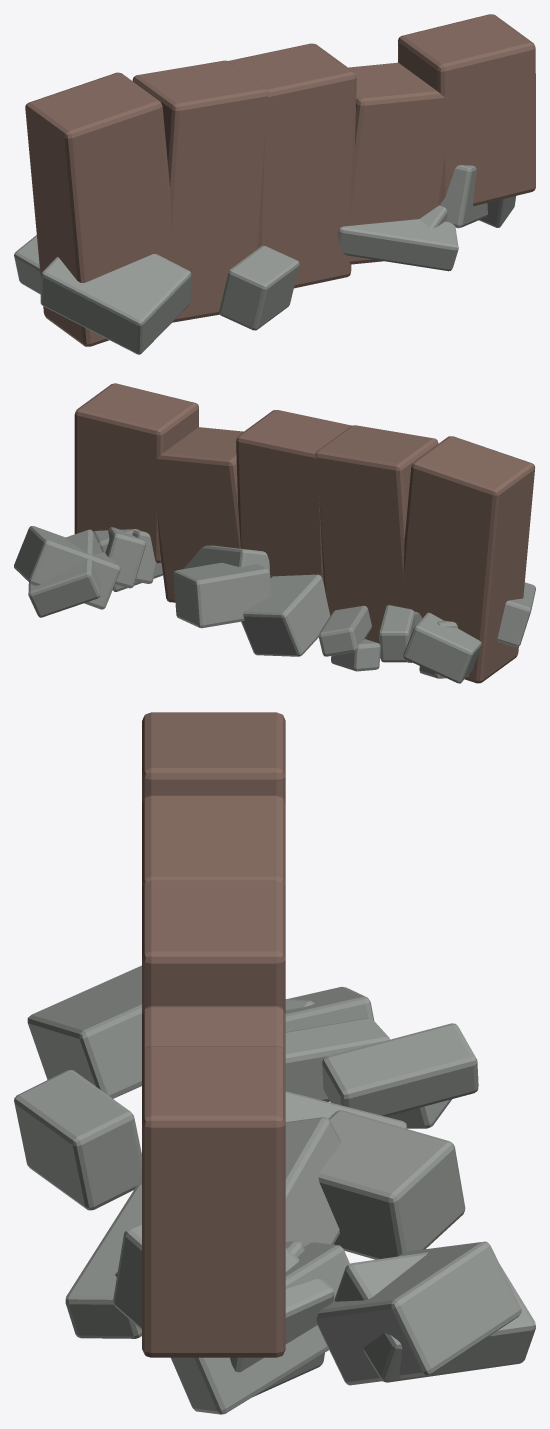
The model's file is collapsed-wall.glb.
The picture shows the model from 3 angles, top to bottom: view 1: azimuth 30°, elevation 25°; view 2: azimuth 150°, elevation 25°; view 3: azimuth 270°, elevation 25°; orthographic projection. The views are drawn at different scales.
Parts seen in each view (by area): view 1: collapsed-wall.001; view 2: collapsed-wall.001; view 3: collapsed-wall.001.
Boxes of the visible parts, left/top/right/bottom form: collapsed-wall.001: left=14, top=14, right=535, bottom=354; collapsed-wall.001: left=14, top=383, right=535, bottom=683; collapsed-wall.001: left=14, top=712, right=535, bottom=1414.
Bounding box in the file's own units: 3.58 × 1.58 × 2.
